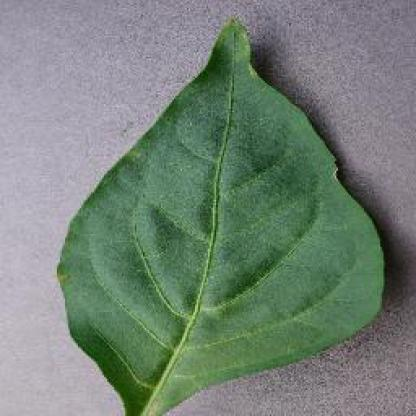good leaf: (96, 59, 324, 373)
